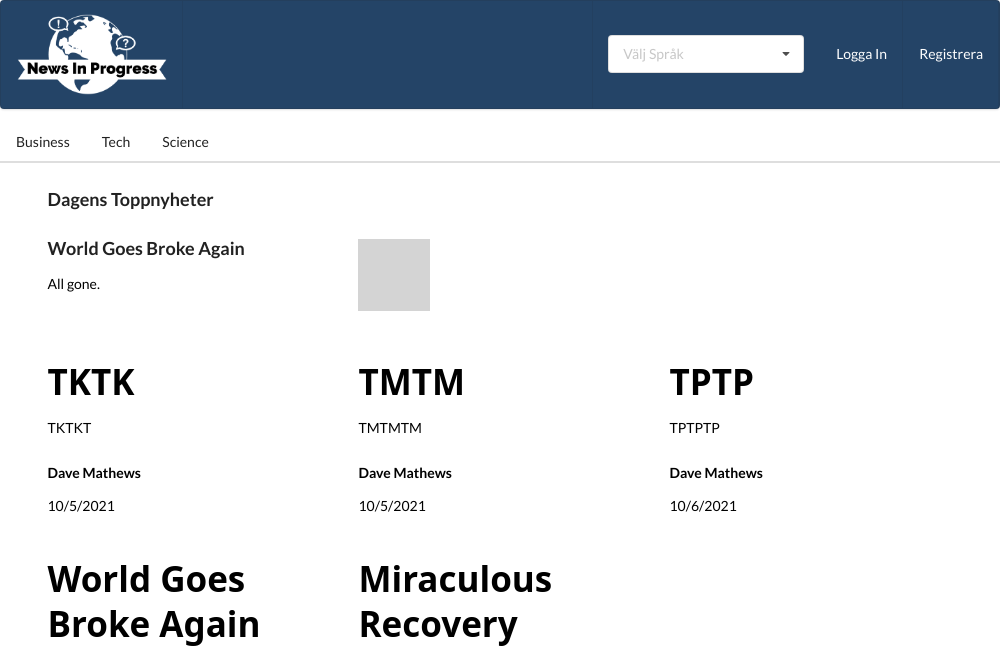
Test: Internationalization - UI language › when the browser is set to Swedish on render › is expected to switch to English when English is manually selected
Click the list with test id "language-selector" at [706, 54], box [608,35,804,73]
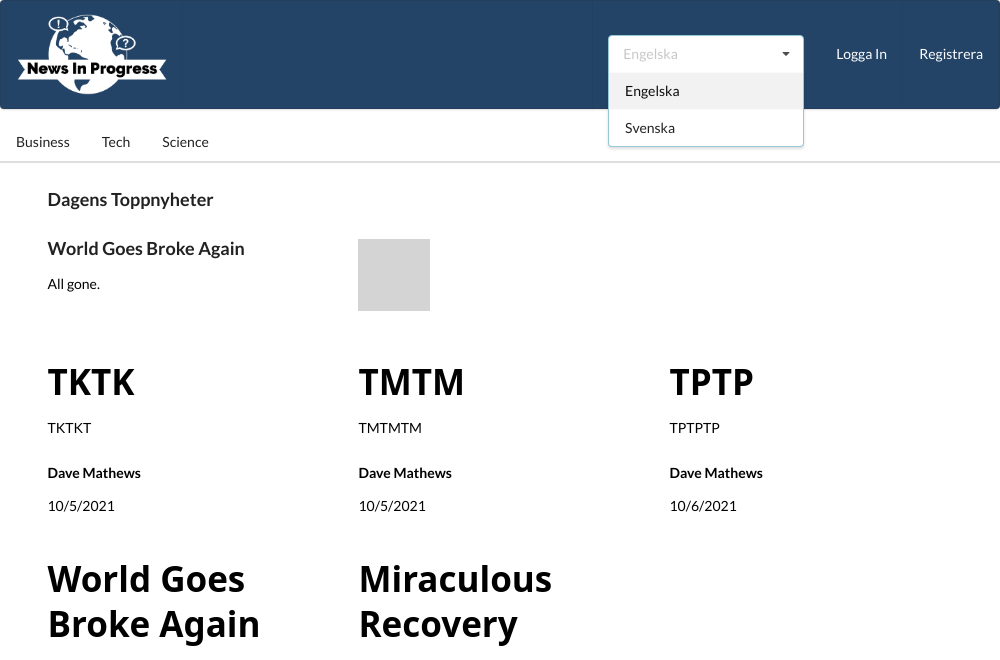
Click the text "Engelska" at [653, 91], box [625,82,680,99]
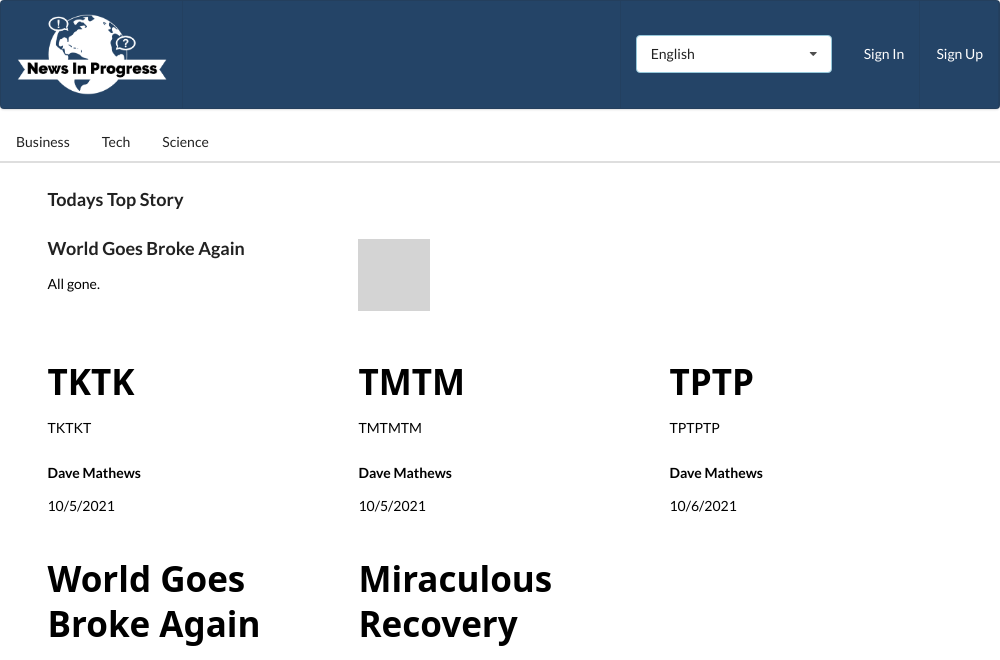
Expected: the list with test id "language-selector" reads "English", [636,35,832,73]
